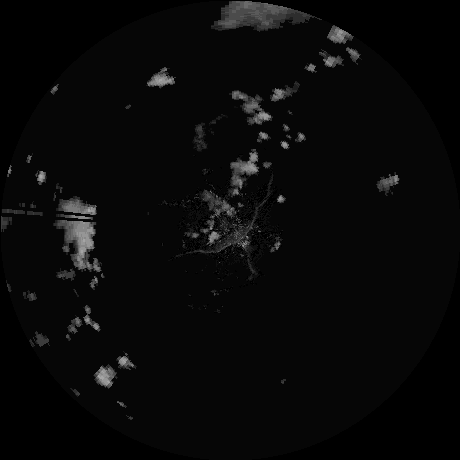frontgust: (242, 243, 256, 278)
